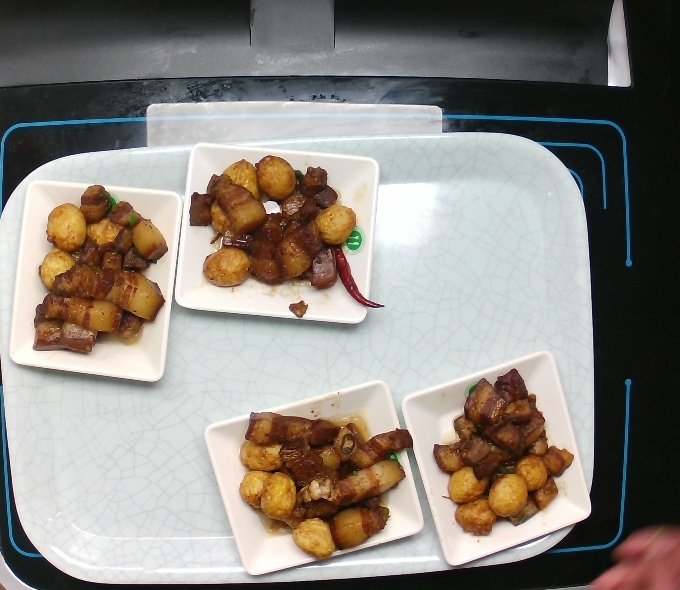wcq-HongShaoRouChaoAnChunDan: (181, 152, 388, 321), (423, 355, 580, 549), (227, 406, 418, 564), (19, 176, 181, 359)
